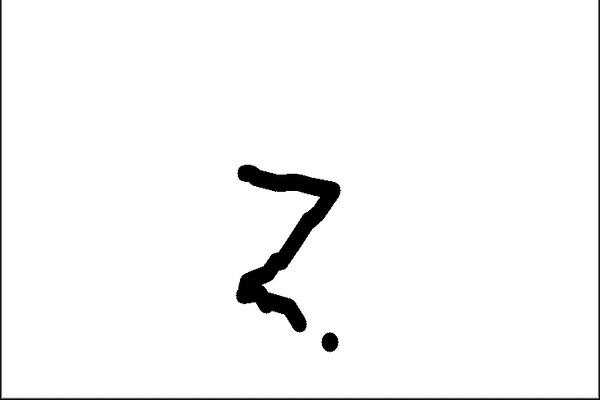Z: (230, 160, 371, 332)
